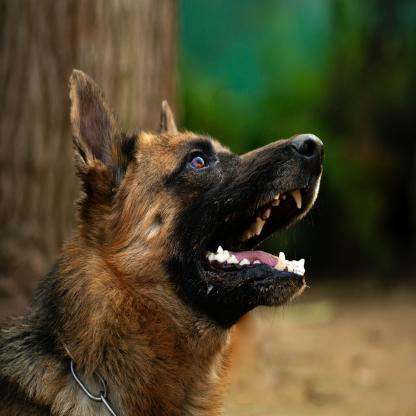german shepherd: (0, 70, 327, 416)
